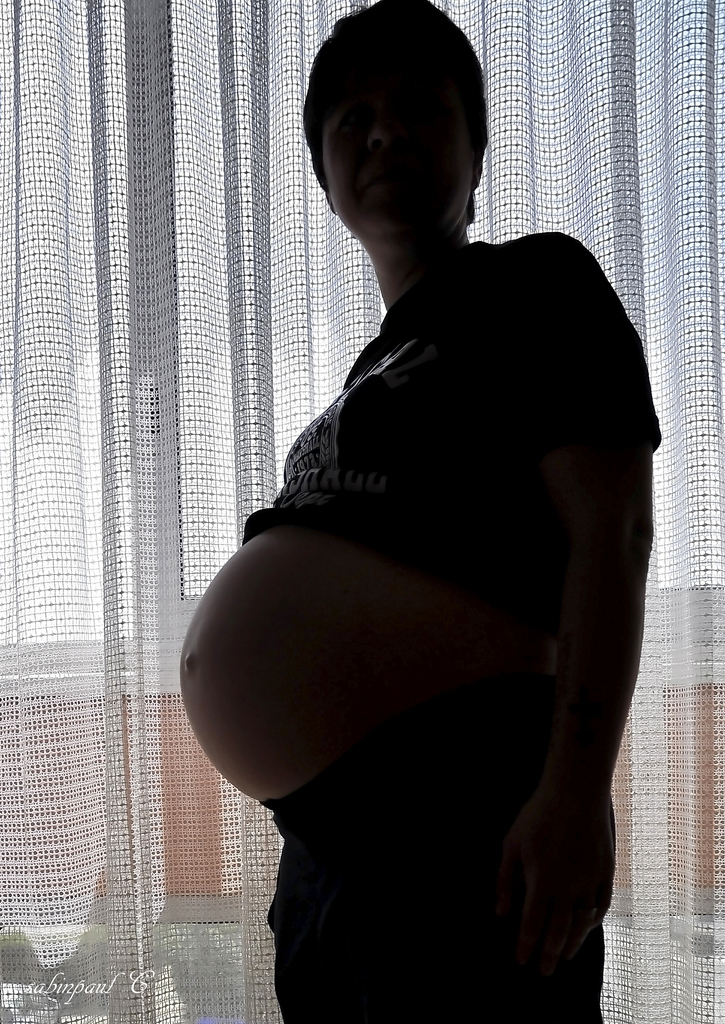Human_hand: (496, 735, 618, 966)
